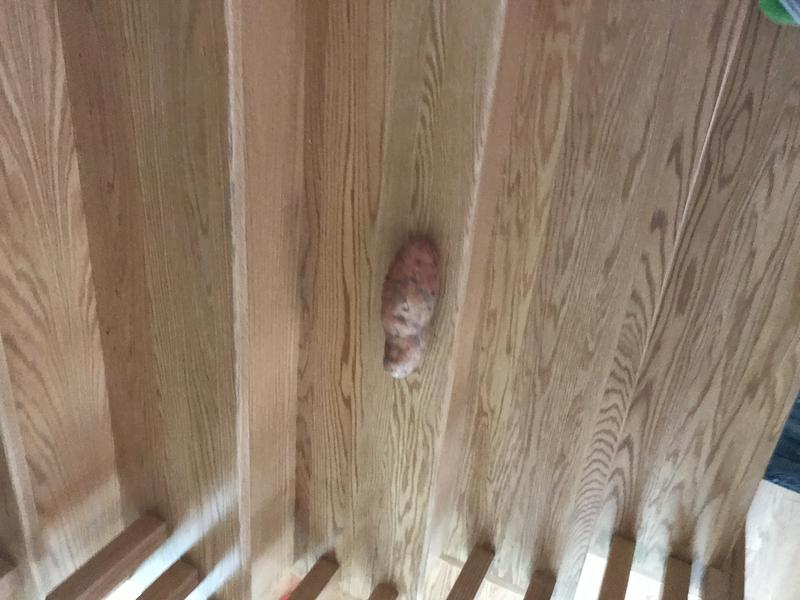sweet_potato: (374, 231, 447, 387)
